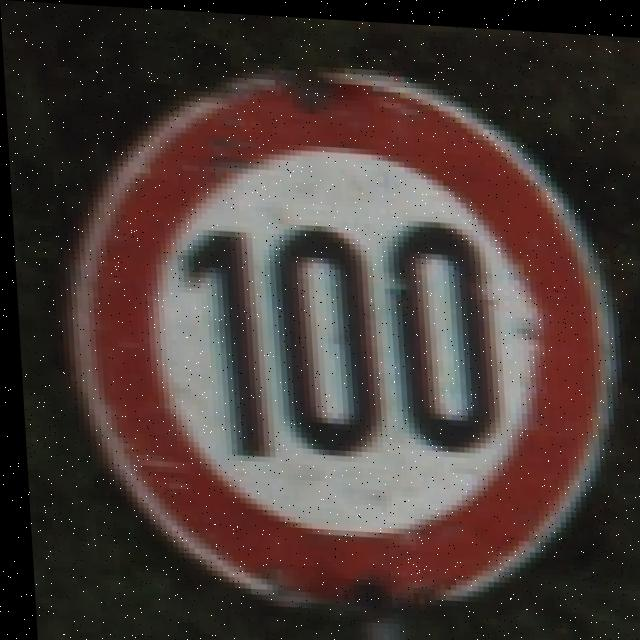speed_limit_100: (80, 70, 605, 611)
